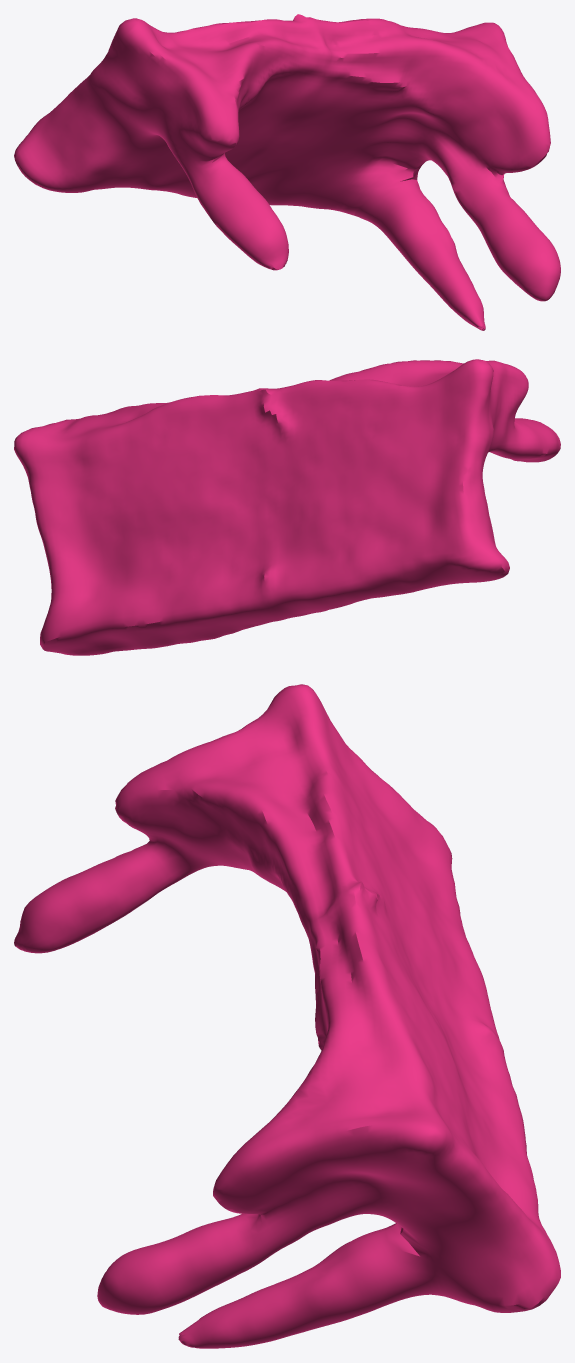
Rendered from desk1_decimated.fbx.
The picture shows the model from 3 angles, top to bottom: view 1: azimuth 30°, elevation 25°; view 2: azimuth 150°, elevation 25°; view 3: azimuth 270°, elevation 25°; orthographic projection. The views are drawn at different scales.
Parts seen in each view (by area): view 1: Default; view 2: Default; view 3: Default.
Boxes of the visible parts, x1,y1,x2,y2 form: Default: [14, 14, 560, 330]; Default: [14, 359, 560, 655]; Default: [14, 684, 560, 1348].
Bounding box in the file's own units: 0.5227 × 0.365 × 0.3884.
